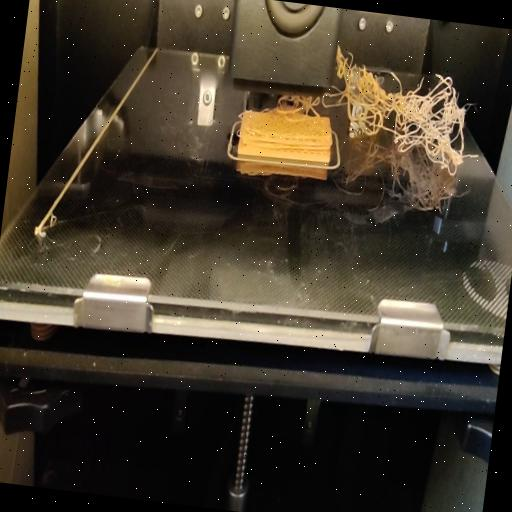spaghetti: (320, 39, 492, 177), (274, 94, 320, 124)
